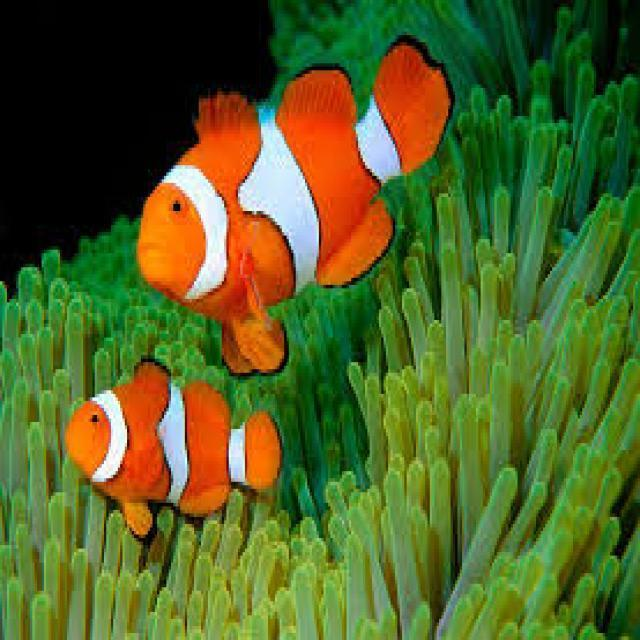ClownFish: (137, 36, 459, 376), (65, 369, 282, 537)
